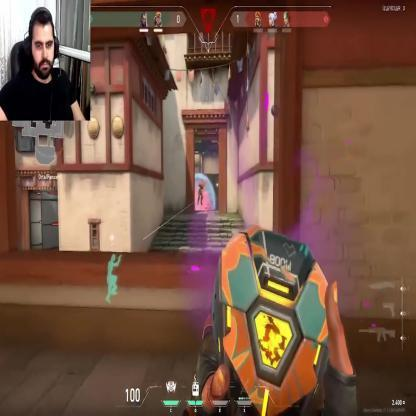enemy: (196, 182, 204, 206)
enemy_head: (198, 182, 202, 186)
